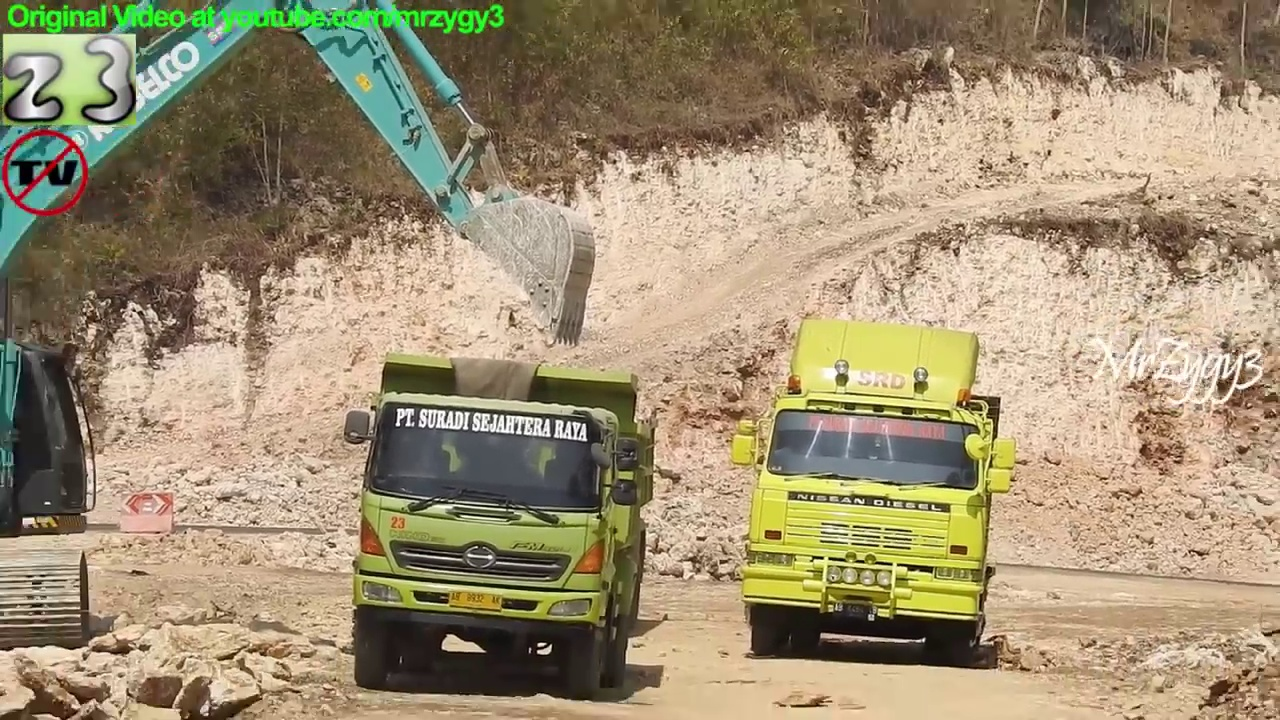compactor: (1, 1, 600, 658)
truck: (340, 348, 664, 707), (729, 314, 1019, 665)
